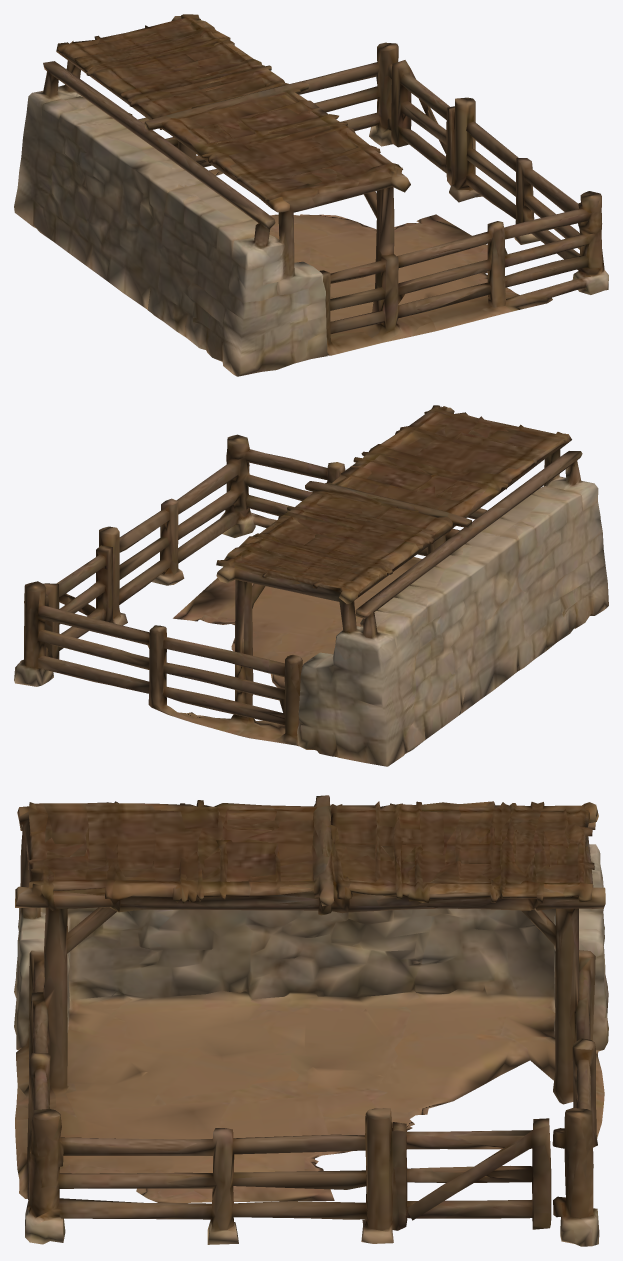
File: animal-pen-tripo-v2.glb
3 views of the same model, one above another, from view 1: azimuth 30°, elevation 25°; view 2: azimuth 150°, elevation 25°; view 3: azimuth 270°, elevation 25° (orthographic). The views are drawn at different scales.
Visible parts, largest first — view 1: tripo_node_01fa5e70-7018-46a7-babd-0796fe5cecce; view 2: tripo_node_01fa5e70-7018-46a7-babd-0796fe5cecce; view 3: tripo_node_01fa5e70-7018-46a7-babd-0796fe5cecce.
Boxes of the visible parts, x1,y1,x2,y2 form: tripo_node_01fa5e70-7018-46a7-babd-0796fe5cecce: (14,14,608,376); tripo_node_01fa5e70-7018-46a7-babd-0796fe5cecce: (14,405,608,766); tripo_node_01fa5e70-7018-46a7-babd-0796fe5cecce: (14,795,608,1246).
Size of the model in its own units: 0.9682 by 0.4231 by 0.9971.
1 material, 1 textured.
